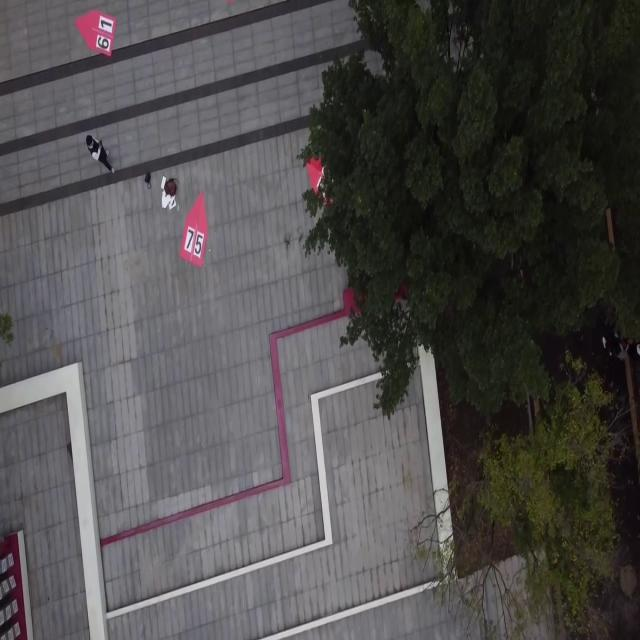-sign-: (72, 0, 120, 62), (179, 190, 209, 268)
